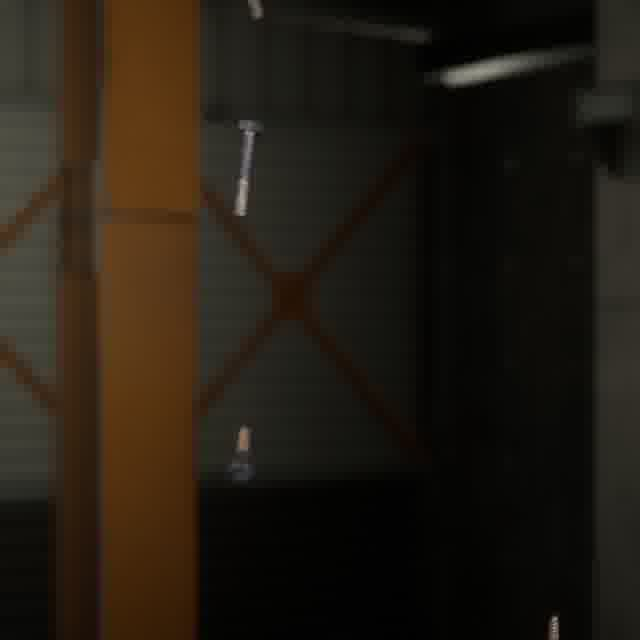bolt: (229, 115, 267, 222), (223, 422, 259, 486)
